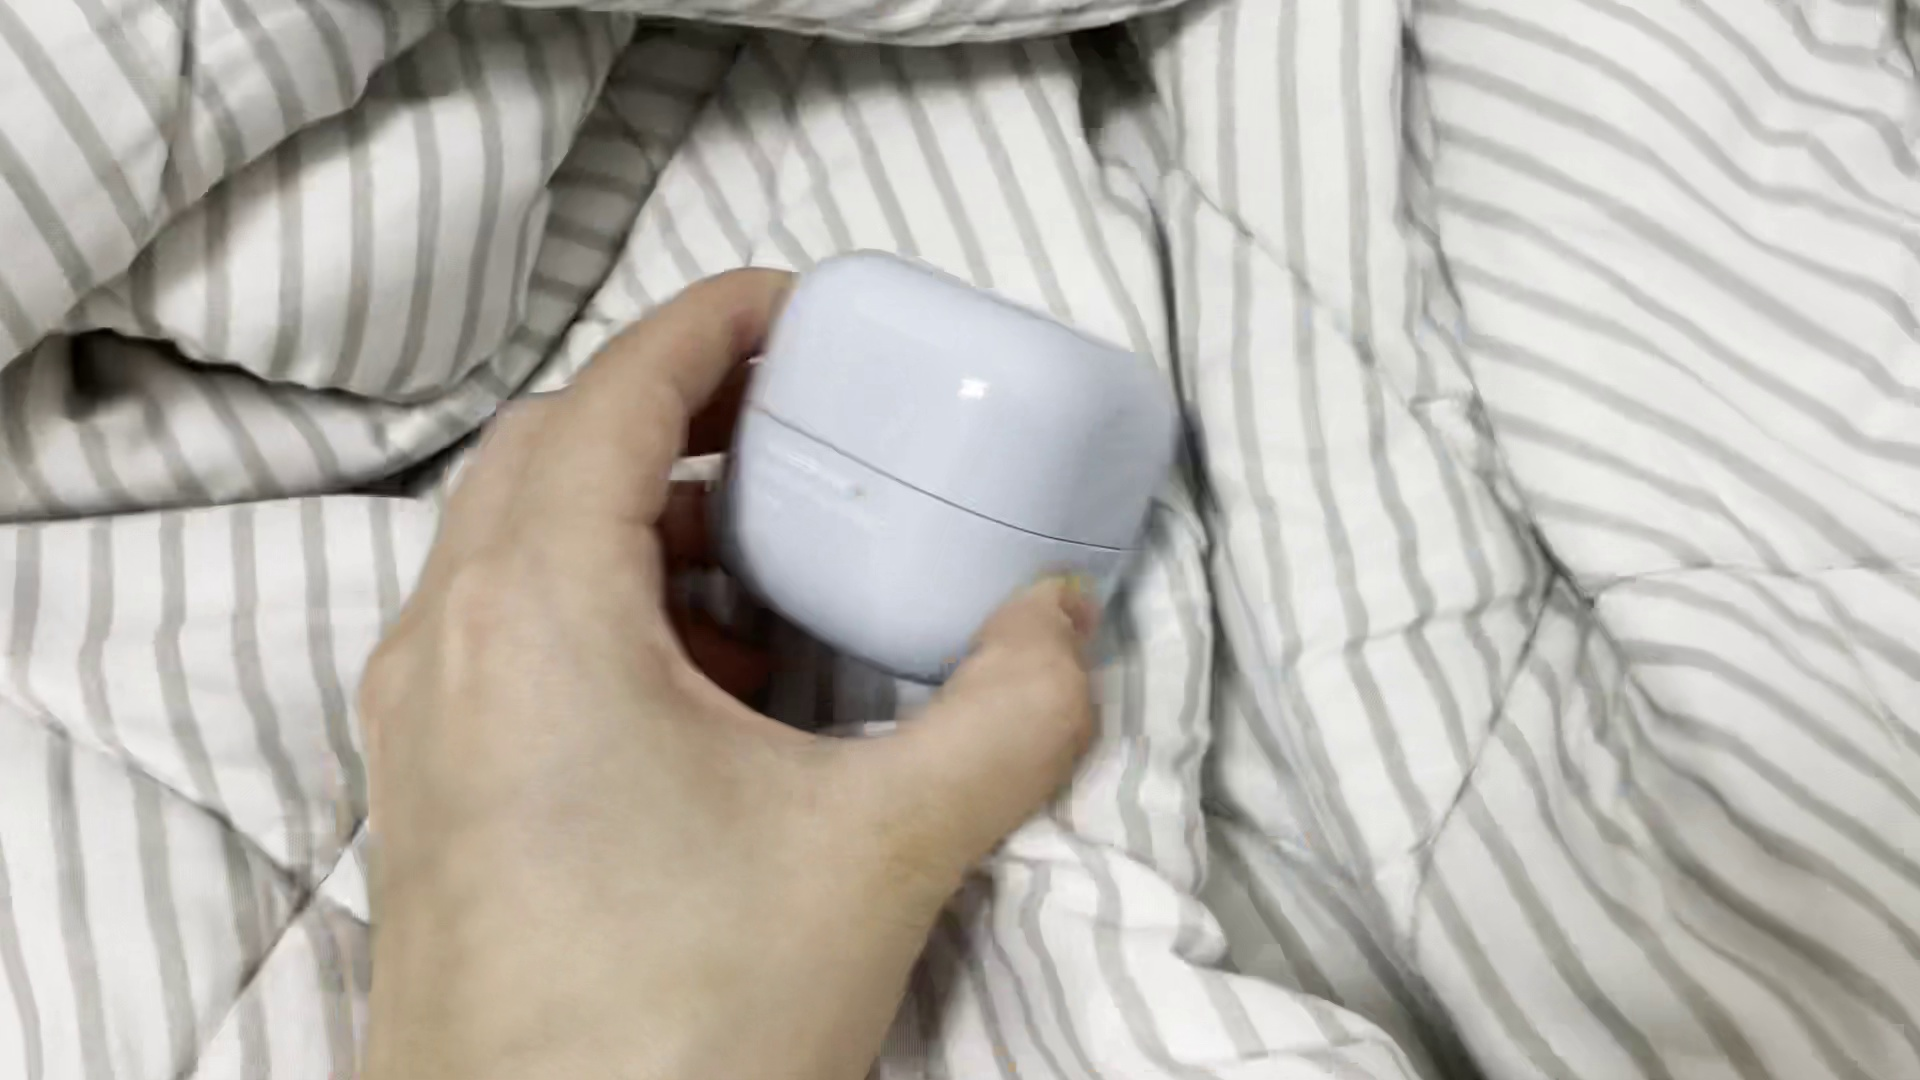cream: (713, 243, 1174, 680)
